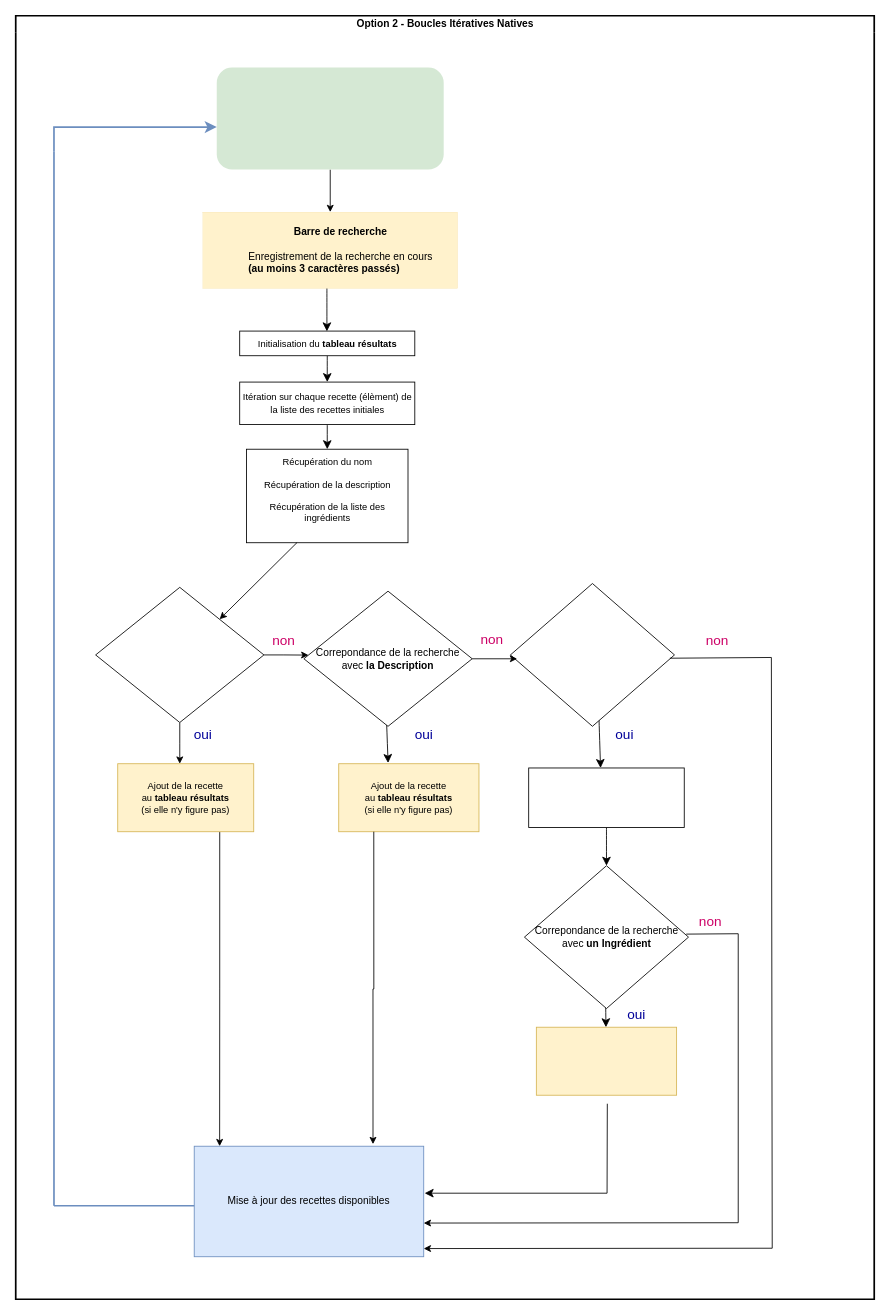
Image size: 889x1314. Some labels were removed from this diagram. The centre of each missing label's shape, as x and y in pixels:
Affichage des recettes disponibles: [329,118]
Ajout de la recette au tableau résultats (si elle n'existe pas): [606,1060]
Correpondance de la recherche avec le Nom: [179,654]
Existance de la liste d'ingrédients: [592,654]
Itération sur chaque ingrédient de la liste des ingrédients: [606,797]
